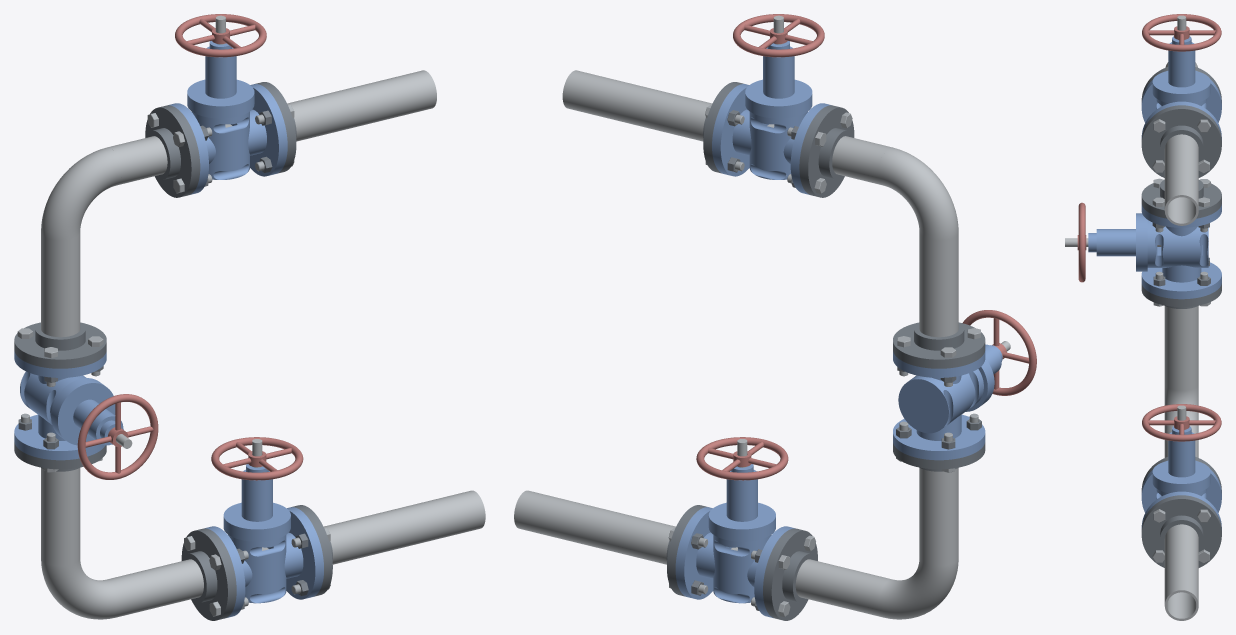
File: step_25.glb
The picture shows the model from 3 angles, left to right: view 1: azimuth 30°, elevation 25°; view 2: azimuth 150°, elevation 25°; view 3: azimuth 270°, elevation 25°; orthographic projection. The views are drawn at different scales.
Parts seen in each view (by area): view 1: part__body bottom valve, part__body top valve, part__bottom pipe, outlet, 360 long, part__top pipe, outlet, 335 long, part__body riser valve, part__bend 2 (top), part__riser pipe, upper, 230 long, part__riser pipe, lower, 70 long, part__bottom pipe, inlet, 210 long, part__bend 1 (bottom), part__flange top, inlet, part__flange bottom, inlet (+11 smaller); view 2: part__body riser valve, part__body top valve, part__body bottom valve, part__bottom pipe, outlet, 360 long, part__top pipe, outlet, 335 long, part__bend 2 (top), part__riser pipe, upper, 230 long, part__riser pipe, lower, 70 long, part__bottom pipe, inlet, 210 long, part__bend 1 (bottom), part__flange top, inlet, part__flange bottom, inlet (+10 smaller); view 3: part__body riser valve, part__bottom pipe, outlet, 360 long, part__flange bottom, outlet, part__flange top, outlet, part__top pipe, outlet, 335 long, part__riser pipe, lower, 70 long, part__bonnet top valve, part__bonnet bottom valve, part__handwheel top valve, part__handwheel bottom valve, part__bonnet riser valve, part__body bottom valve (+7 smaller).
Boxes of the visible parts, bbox=[...] form: part__body bottom valve: bbox=[205, 507, 323, 617]; part__body top valve: bbox=[168, 84, 287, 194]; part__bottom pipe, outlet, 360 long: bbox=[324, 490, 485, 564]; part__top pipe, outlet, 335 long: bbox=[287, 70, 436, 141]; part__body riser valve: bbox=[14, 351, 106, 460]; part__bend 2 (top): bbox=[41, 147, 121, 240]; part__riser pipe, upper, 230 long: bbox=[41, 233, 80, 337]; part__riser pipe, lower, 70 long: bbox=[41, 468, 80, 565]; part__bottom pipe, inlet, 210 long: bbox=[108, 559, 203, 617]; part__bend 1 (bottom): bbox=[41, 558, 121, 619]; part__flange top, inlet: bbox=[145, 105, 200, 197]; part__flange bottom, inlet: bbox=[181, 528, 236, 620]; part__body riser valve: bbox=[893, 351, 991, 460]; part__body top valve: bbox=[712, 84, 831, 194]; part__body bottom valve: bbox=[675, 507, 795, 618]; part__bottom pipe, outlet, 360 long: bbox=[514, 490, 675, 564]; part__top pipe, outlet, 335 long: bbox=[562, 70, 712, 141]; part__bend 2 (top): bbox=[878, 147, 958, 240]; part__riser pipe, upper, 230 long: bbox=[919, 232, 958, 337]; part__riser pipe, lower, 70 long: bbox=[919, 468, 958, 565]; part__bottom pipe, inlet, 210 long: bbox=[795, 559, 890, 616]; part__bend 1 (bottom): bbox=[878, 558, 958, 619]; part__flange top, inlet: bbox=[799, 105, 854, 197]; part__flange bottom, inlet: bbox=[763, 528, 817, 620]; part__body riser valve: bbox=[1141, 204, 1221, 299]; part__bottom pipe, outlet, 360 long: bbox=[1164, 524, 1198, 620]; part__flange bottom, outlet: bbox=[1141, 495, 1221, 567]; part__flange top, outlet: bbox=[1141, 105, 1221, 177]; part__top pipe, outlet, 335 long: bbox=[1164, 134, 1198, 225]; part__riser pipe, lower, 70 long: bbox=[1164, 306, 1198, 390]; part__bonnet top valve: bbox=[1152, 36, 1210, 99]; part__bonnet bottom valve: bbox=[1152, 426, 1210, 489]; part__handwheel top valve: bbox=[1142, 14, 1221, 51]; part__handwheel bottom valve: bbox=[1142, 404, 1221, 441]; part__bonnet riser valve: bbox=[1088, 213, 1141, 271]; part__body bottom valve: bbox=[1141, 460, 1221, 529].
Size of the model in its own units: 937 by 1172 by 322.
